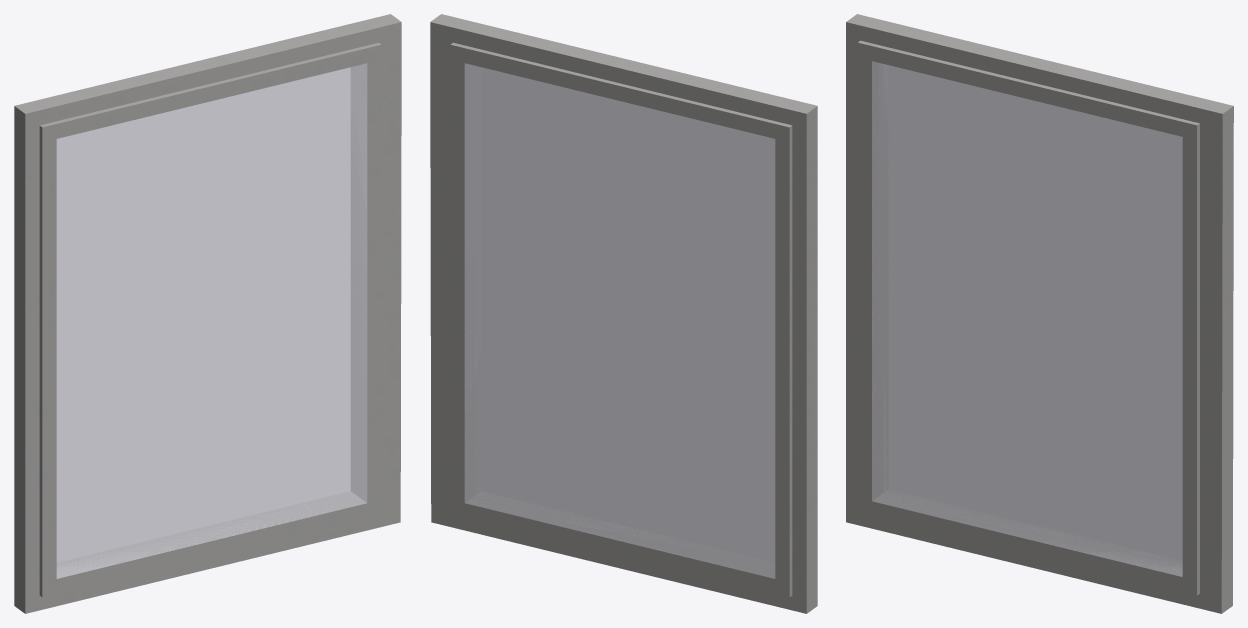
File: windows_1.dae
3 views of the same model, side by side, from view 1: azimuth 30°, elevation 25°; view 2: azimuth 150°, elevation 25°; view 3: azimuth 330°, elevation 25° (orthographic).
Visible parts, largest first — view 1: sklo_4, okna; view 2: sklo_4, okna; view 3: sklo_4, okna.
Part boxes in pixels (left/top/right/bottom): sklo_4: left=56, top=63, right=367, bottom=578; okna: left=14, top=14, right=401, bottom=613; sklo_4: left=464, top=63, right=775, bottom=578; okna: left=430, top=14, right=817, bottom=613; sklo_4: left=872, top=61, right=1182, bottom=576; okna: left=846, top=14, right=1233, bottom=613.
Size of the model in its own units: 1.58 by 0.12 by 2.
2 materials, 1 textured.
